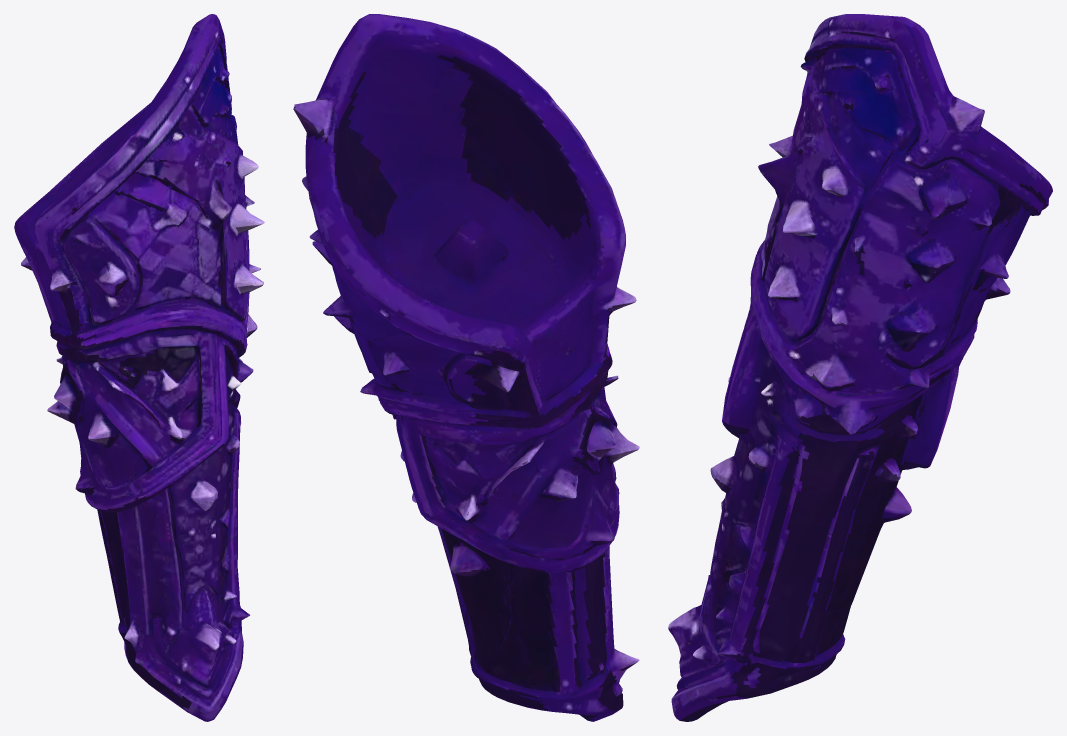
File: duelista-bracal.glb
3 renders of one model, left to right at view 1: azimuth 30°, elevation 25°; view 2: azimuth 150°, elevation 25°; view 3: azimuth 270°, elevation 25°, orthographic. The views are drawn at different scales.
Visible parts, largest first — view 1: tripo_node_18c51187-5082-45af-b07b-0b058e23e64d; view 2: tripo_node_18c51187-5082-45af-b07b-0b058e23e64d; view 3: tripo_node_18c51187-5082-45af-b07b-0b058e23e64d.
Boxes of the visible parts, <box> form: tripo_node_18c51187-5082-45af-b07b-0b058e23e64d: <box>14,14,264,721</box>; tripo_node_18c51187-5082-45af-b07b-0b058e23e64d: <box>293,14,639,721</box>; tripo_node_18c51187-5082-45af-b07b-0b058e23e64d: <box>668,14,1052,721</box>.
Size of the model in its own units: 0.3807 by 0.9782 by 0.4494.
1 material, 1 textured.
